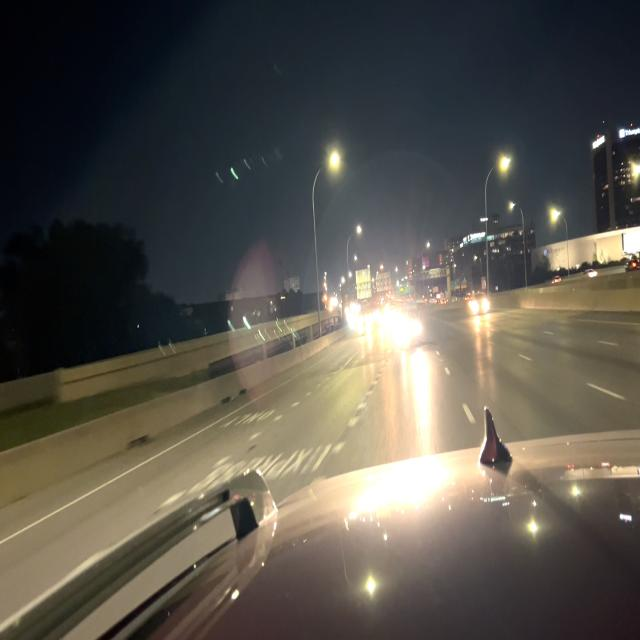back-of-sign: (355, 265, 373, 303), (375, 272, 391, 295)
